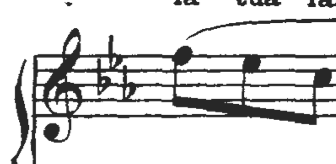flat: (91, 53, 113, 103), (118, 63, 140, 105), (104, 31, 124, 71)
treble_clef: (37, 20, 88, 151)
